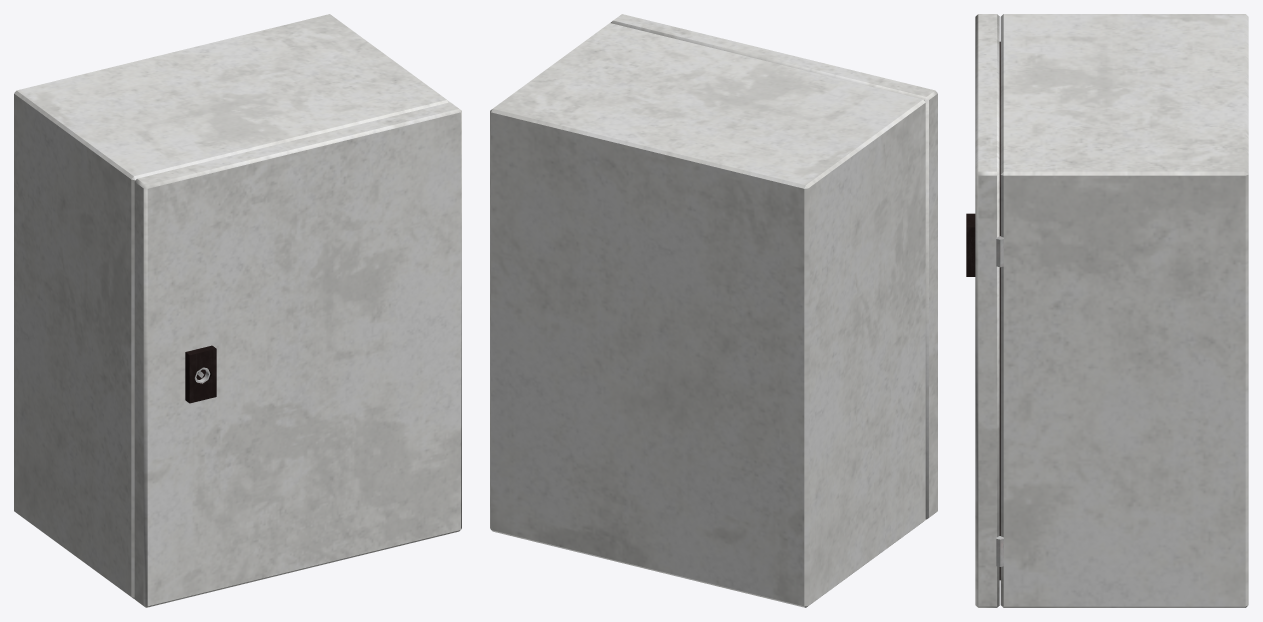
File: 1.3_protection_box.fbx
The picture shows the model from 3 angles, left to right: view 1: azimuth 30°, elevation 25°; view 2: azimuth 150°, elevation 25°; view 3: azimuth 270°, elevation 25°; orthographic projection. The views are drawn at different scales.
Visible parts, largest first — view 1: protection_box_lid, protection_box; view 2: protection_box, protection_box_lid; view 3: protection_box, protection_box_lid.
Part boxes in pixels (bbox=[...]): protection_box_lid: bbox=[134, 102, 461, 607]; protection_box: bbox=[14, 14, 449, 598]; protection_box: bbox=[490, 23, 925, 607]; protection_box_lid: bbox=[610, 14, 937, 519]; protection_box: bbox=[999, 14, 1248, 607]; protection_box_lid: bbox=[966, 14, 1003, 607].
Size of the model in its own units: 0.2638 by 0.33 by 0.1936.
